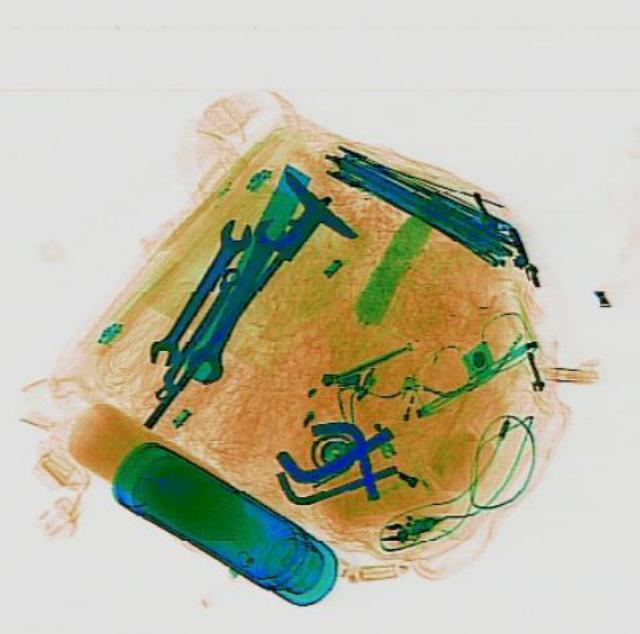Wrench: (174, 208, 294, 390), (140, 213, 258, 369)
